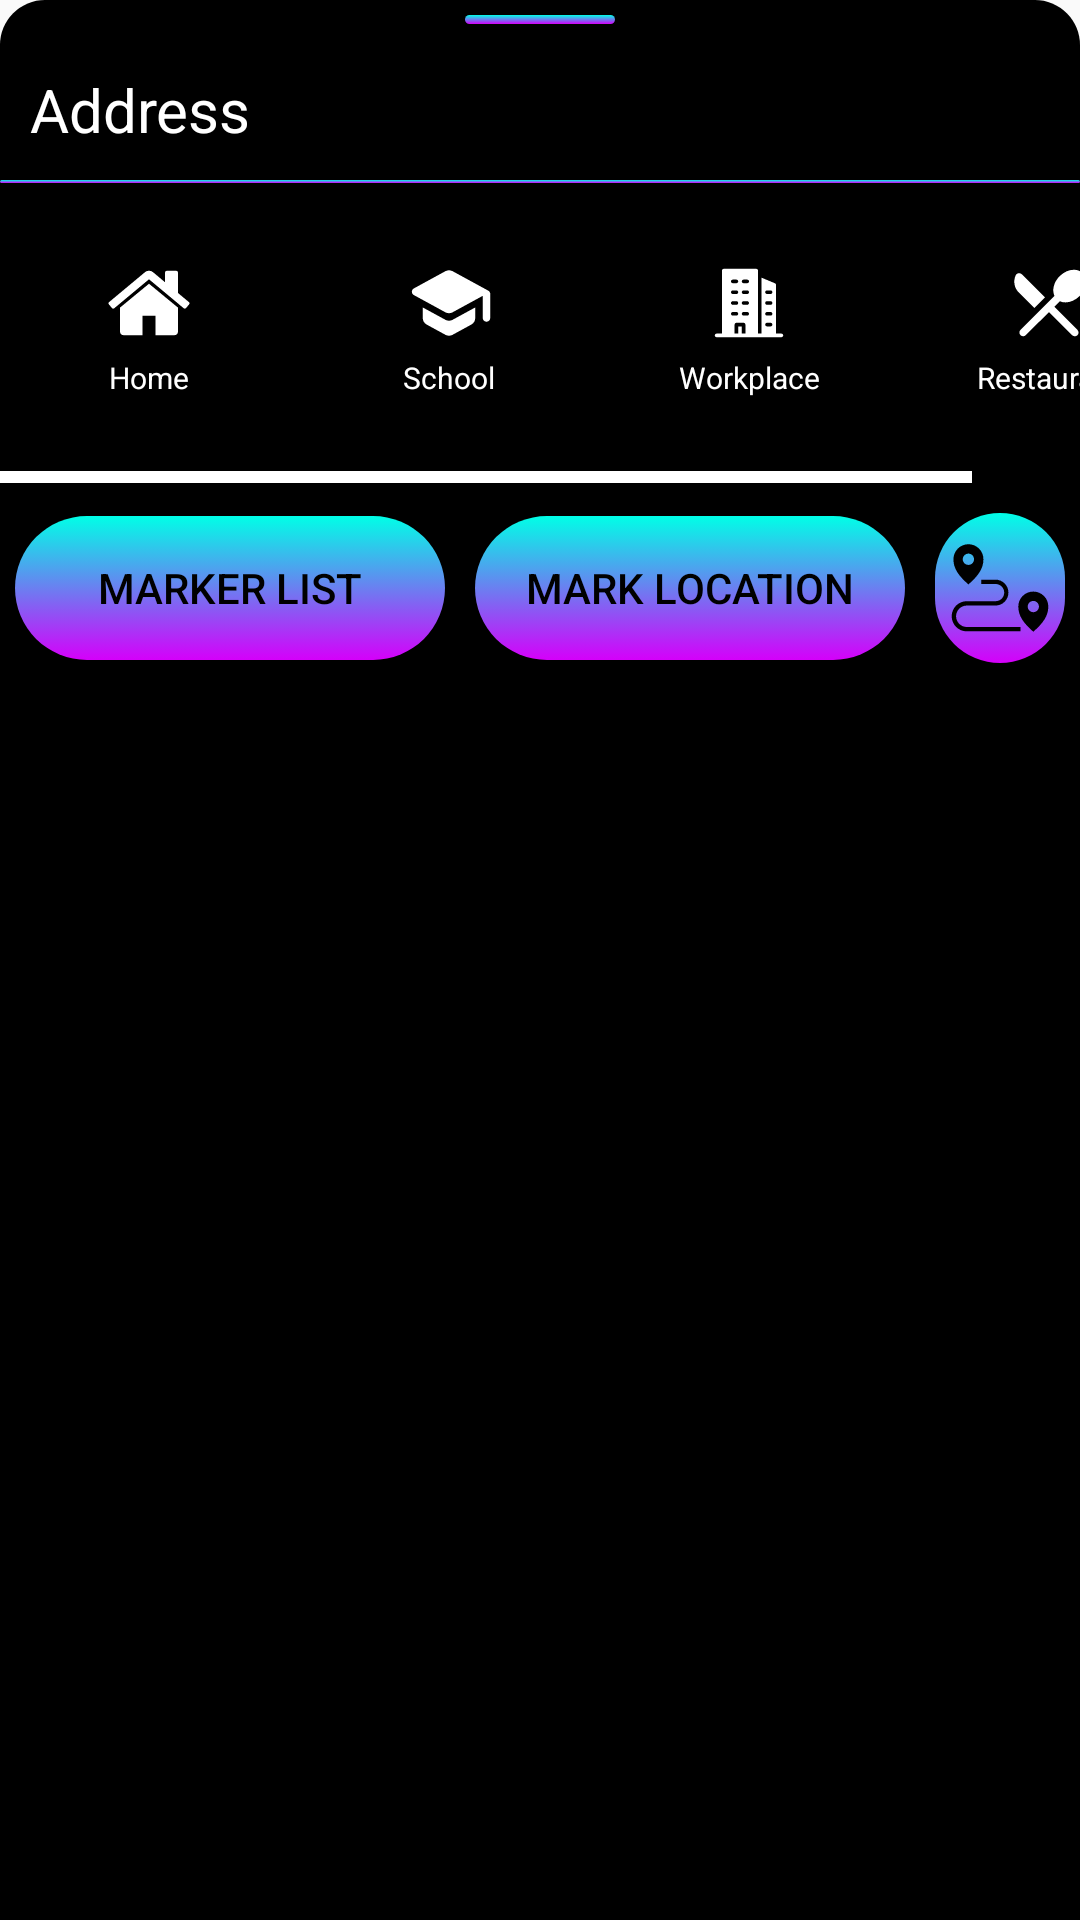

Named icons in this screenshot (1080*1920) and their centers, (x,y):
route: (1000,588)
